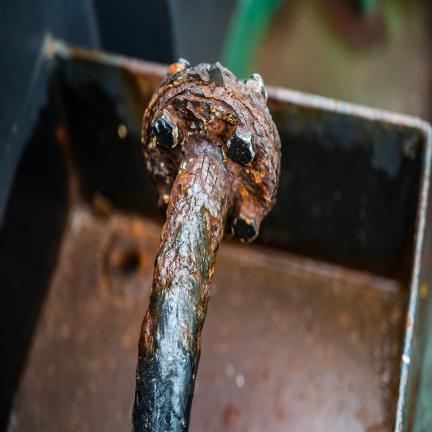karat: (132, 60, 280, 431), (191, 242, 406, 431)
